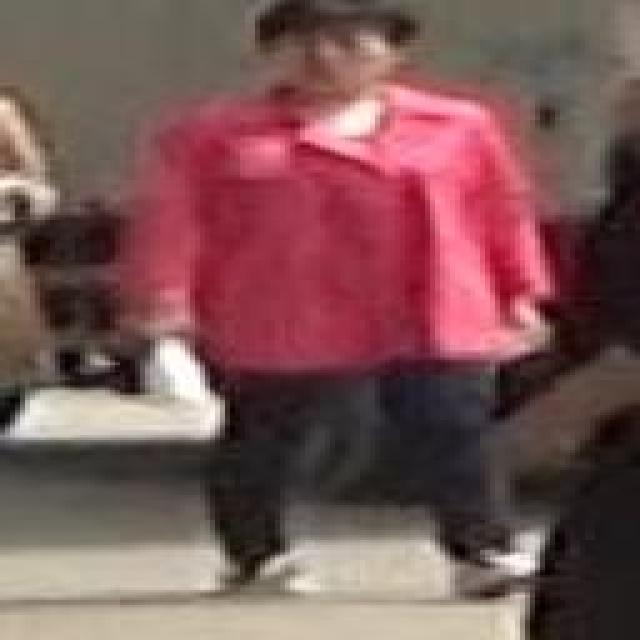adult: (122, 6, 566, 591)
